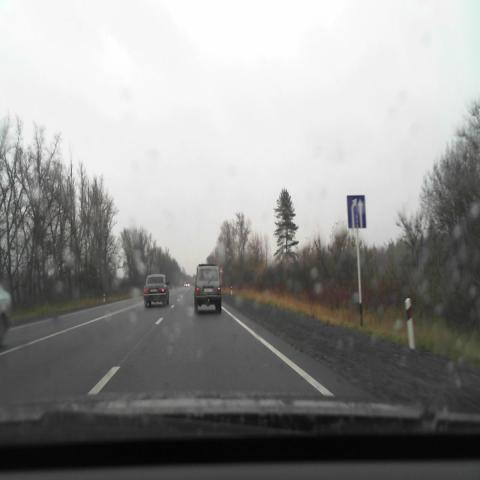5_15_5: (346, 194, 366, 228)
